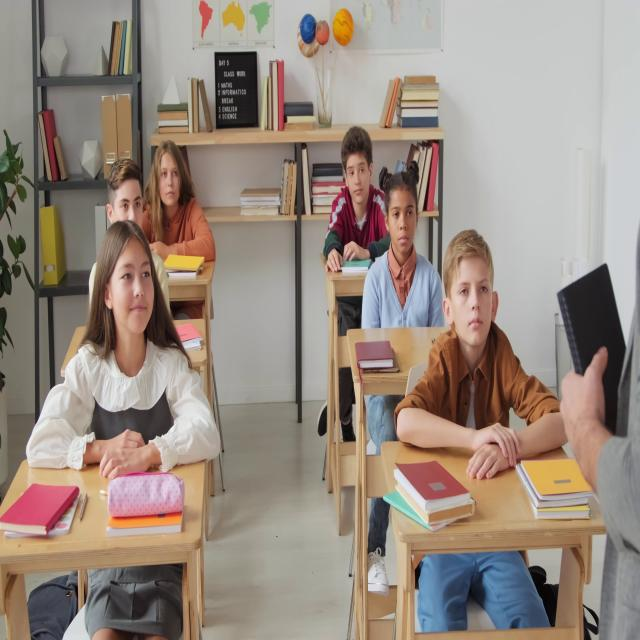listening: (394, 237, 565, 634), (26, 226, 224, 469), (361, 171, 444, 346), (141, 142, 217, 314), (89, 158, 169, 316), (324, 126, 384, 278)
